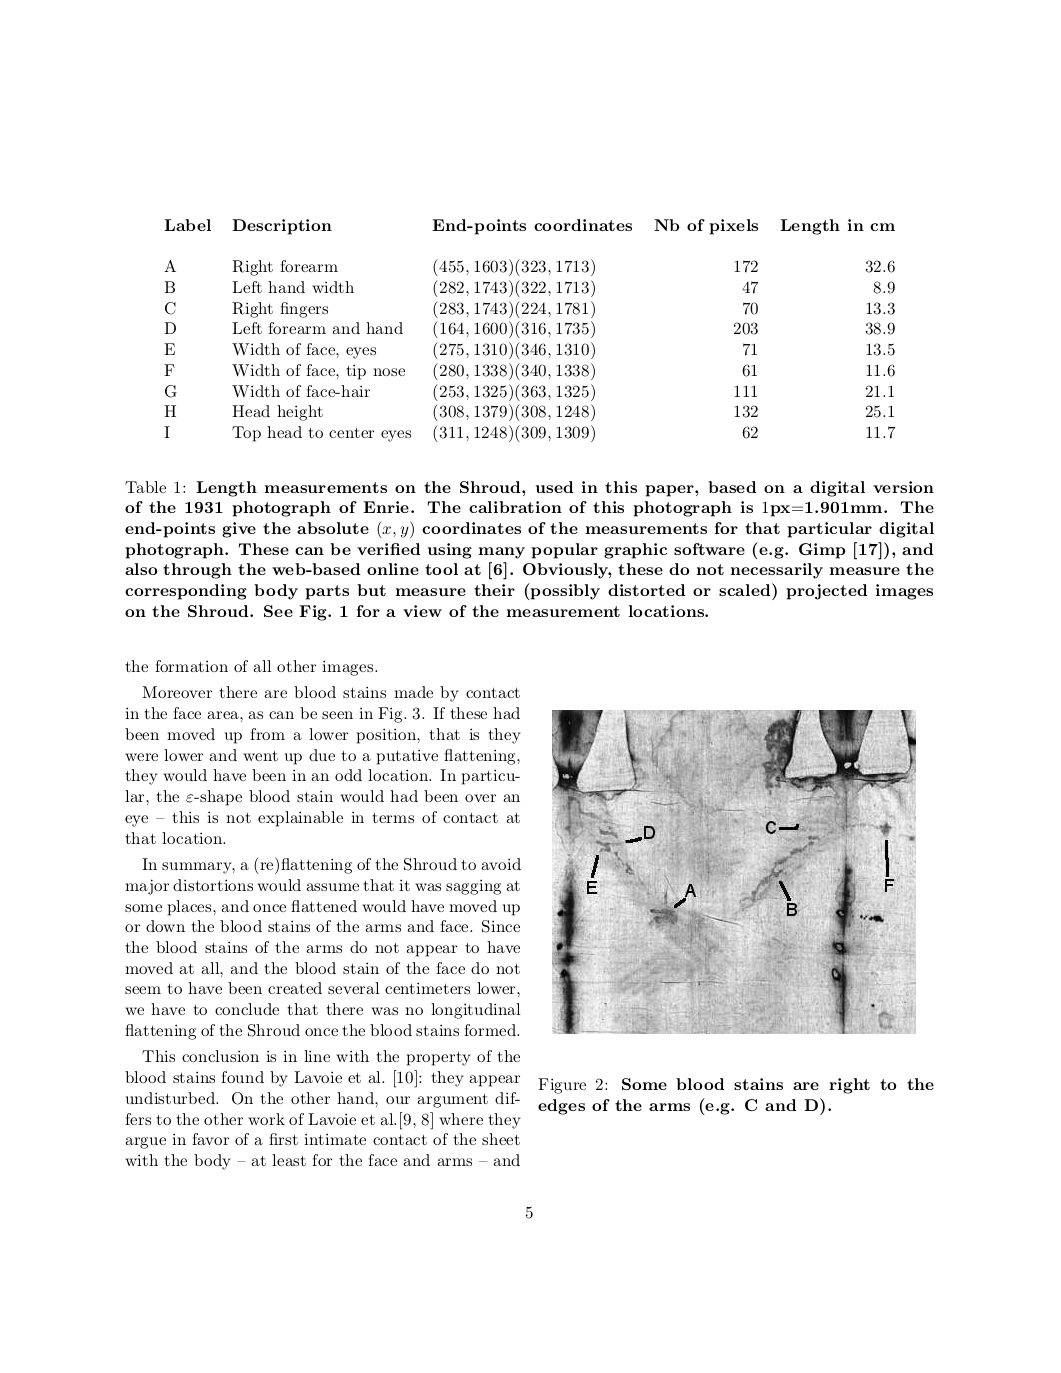Table: (164, 259, 895, 442)
figure: (552, 709, 915, 1034)
